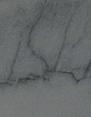termicas: (3, 2, 91, 100)
